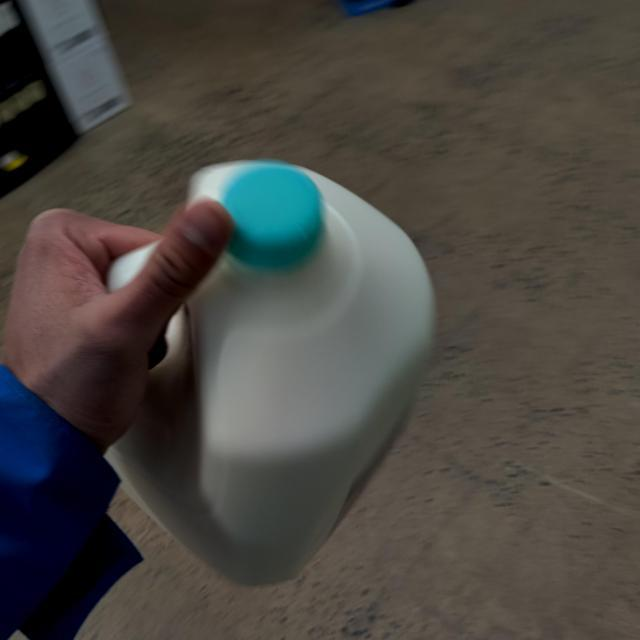Milk: (77, 152, 464, 613)
